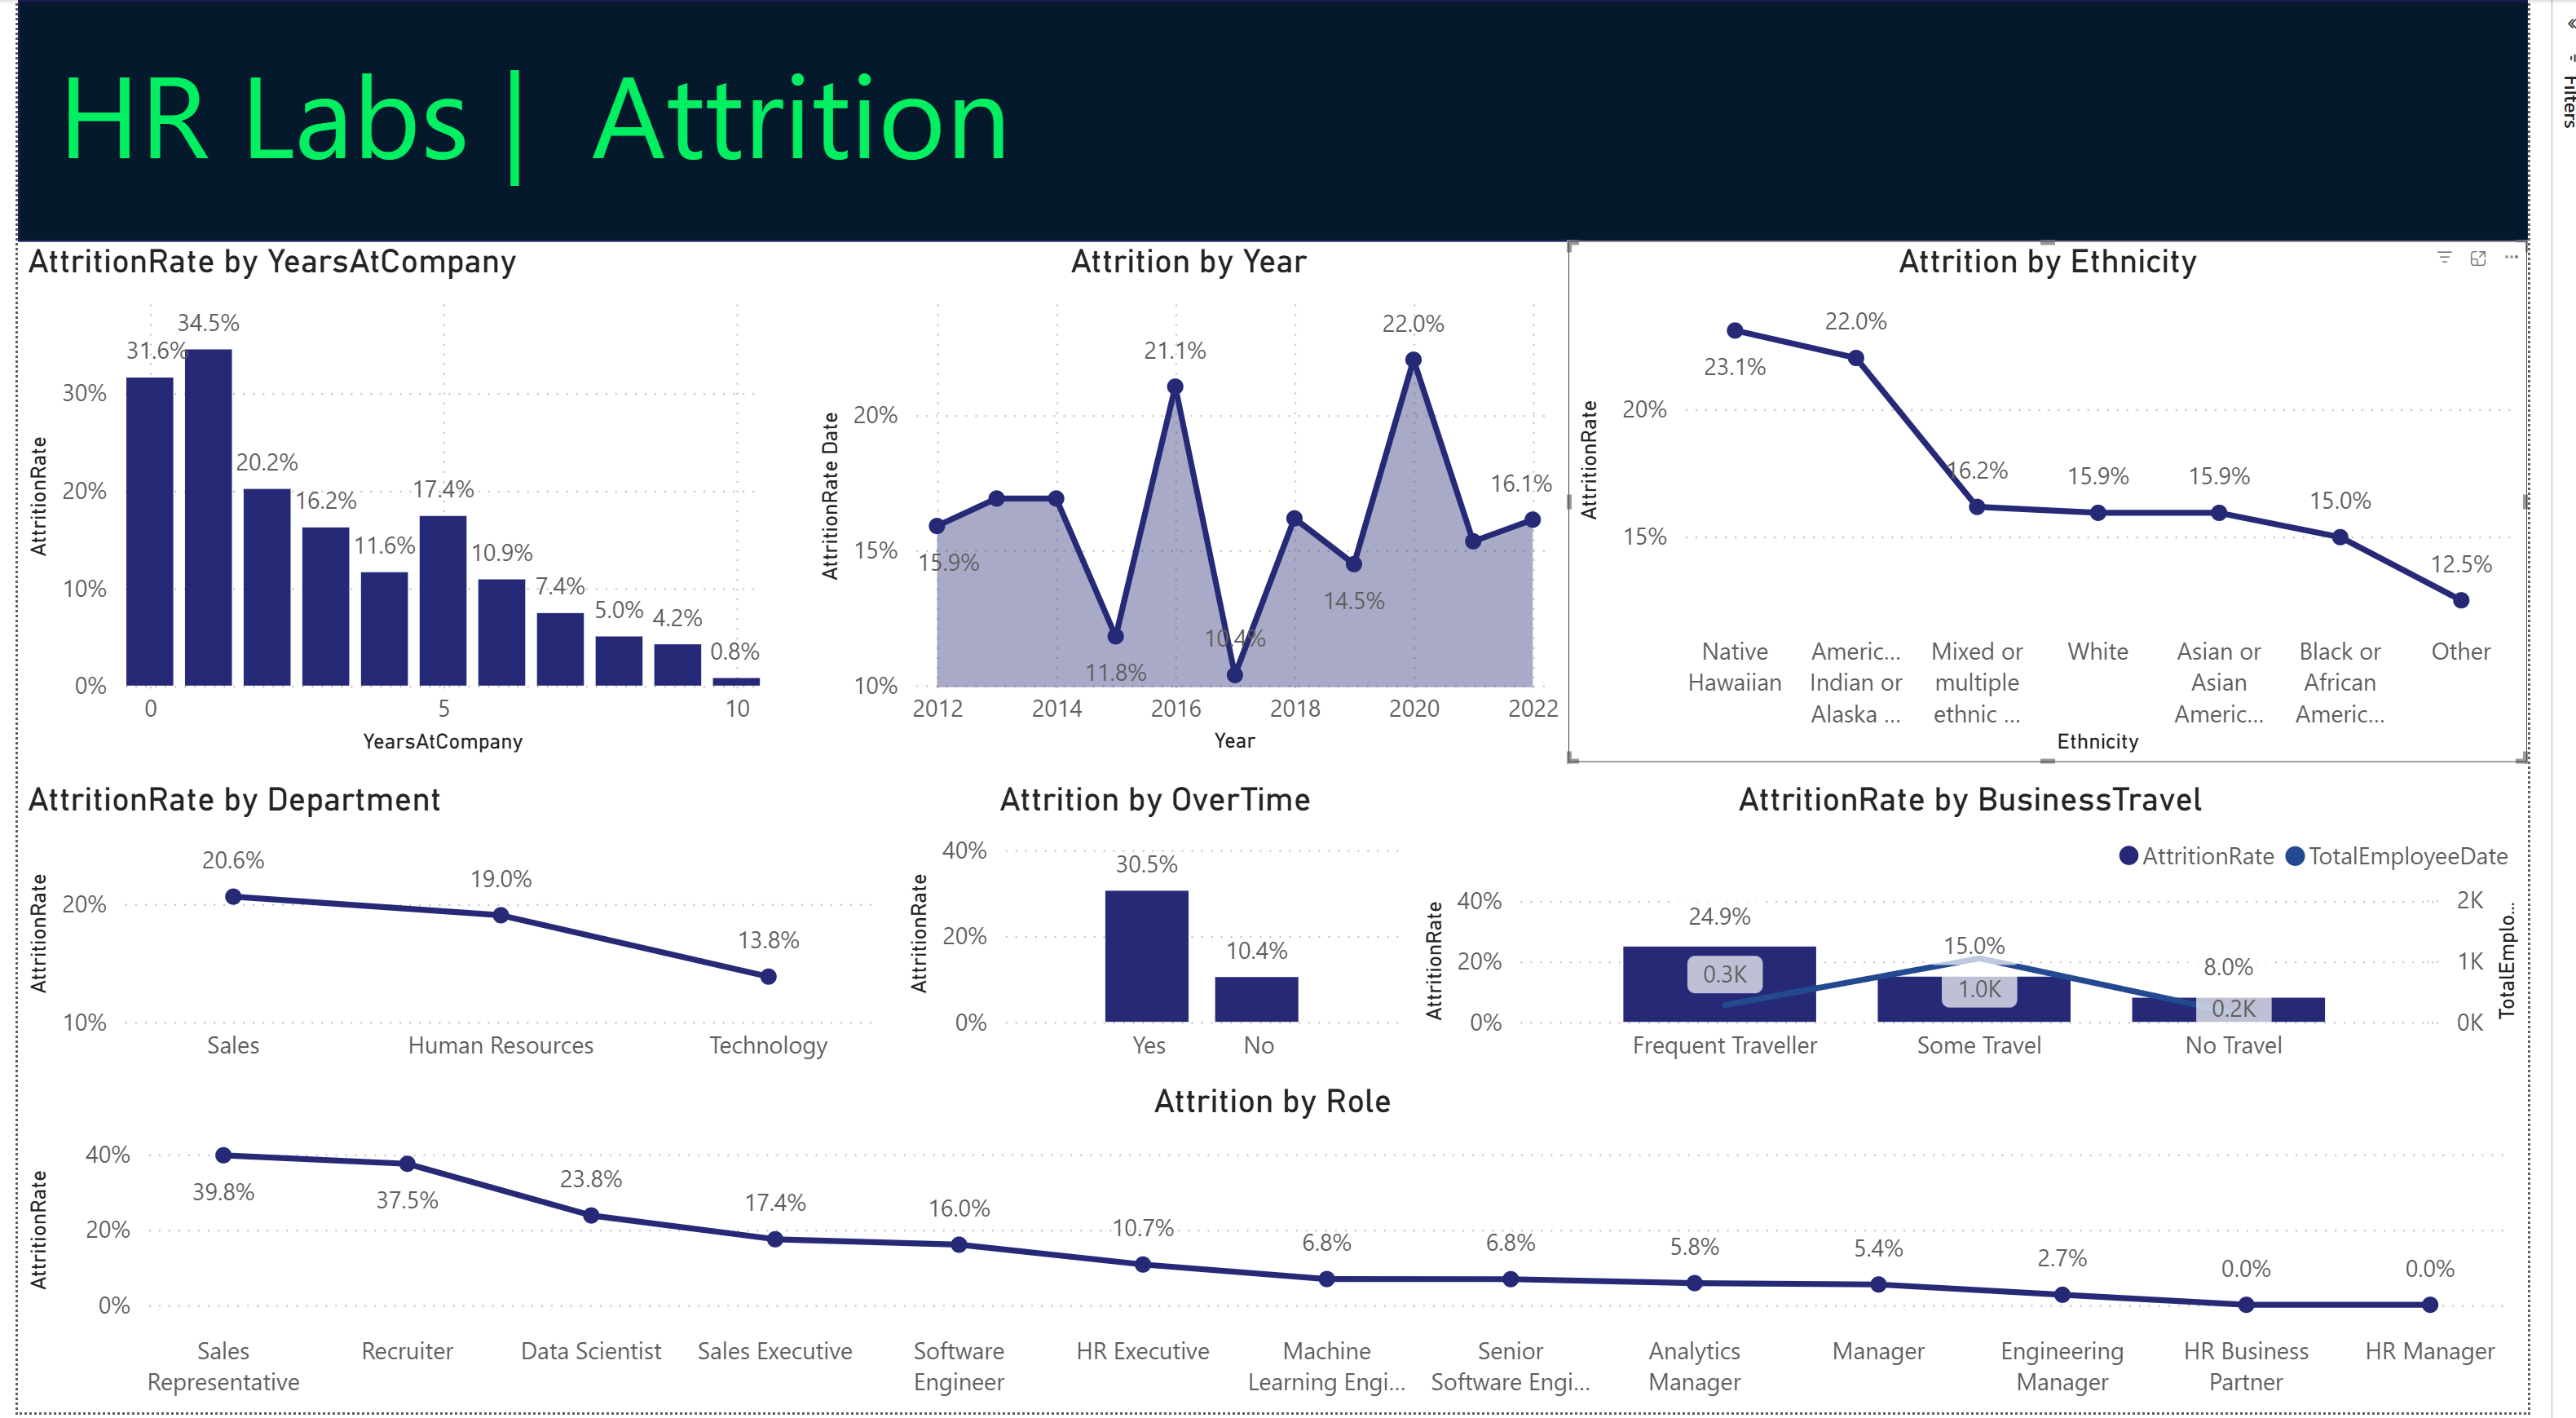

What the dashboard file says about the page in this screenshot:
{"tool":"powerbi","page":{"name":"Attrition Rate","canvas":[1280,720],"ordinal":3},"visuals":[{"type":"lineChart","fields":{"Y":["_Measures.AttritionRate"],"Category":["Employee -Dim.Department"]},"box":[0,397.3,442.6,153.7],"z":0},{"type":"lineChart","title":"Attrition by Year","fields":{"Y":["_Measures.AttritionRate Date"],"Category":["DimDate.Date.Variation.Date Hierarchy.Year"]},"box":[403.3,123.1,387.3,265.5],"z":1000},{"type":"lineChart","title":"Attrition by Role","fields":{"Y":["_Measures.AttritionRate"],"Category":["Employee -Dim.JobRole"]},"box":[0,551,1279.8,169],"z":2000},{"type":"lineStackedColumnComboChart","title":"AttritionRate by BusinessTravel","fields":{"Category":["Employee -Dim.BusinessTravel"],"Y":["_Measures.AttritionRate"],"Y2":["_Measures.TotalEmployeeDate"]},"box":[711.4,397.3,568.3,153.7],"z":3000},{"type":"clusteredColumnChart","title":"Attrition by OverTime","fields":{"Y":["_Measures.AttritionRate"],"Category":["Employee -Dim.OverTime"]},"box":[449.2,397.3,262.2,153.7],"z":4000},{"type":"clusteredColumnChart","fields":{"Category":["Employee -Dim.YearsAtCompany"],"Y":["_Measures.AttritionRate"]},"box":[0,123.1,383.3,265.5],"z":5000},{"type":"shape","box":[0,0,1280.4,123.1],"z":6000},{"type":"textbox","box":[15.6,12.1,956.1,92],"z":7000},{"type":"lineChart","title":"Attrition by Ethnicity","fields":{"Y":["_Measures.AttritionRate"],"Category":["Employee -Dim.Ethnicity"]},"box":[790.6,123.1,489.2,265.5],"z":8000}]}

Visuals, with their boxes in screenshot pixels (x1, y1, x2, y2), scaled from the page's 1280x720 canvas onto the 2576x1418 screenshot:
lineChart - _Measures.AttritionRate x Employee -Dim.Department: BBox(0, 783, 891, 1085)
"Attrition by Year" lineChart: BBox(812, 242, 1591, 766)
"Attrition by Role" lineChart: BBox(0, 1085, 2575, 1417)
"AttritionRate by BusinessTravel" lineStackedColumnComboChart: BBox(1431, 783, 2575, 1085)
"Attrition by OverTime" clusteredColumnChart: BBox(904, 783, 1431, 1085)
clusteredColumnChart - Employee -Dim.YearsAtCompany x _Measures.AttritionRate: BBox(0, 242, 771, 766)
shape: BBox(0, 0, 2575, 242)
textbox: BBox(32, 24, 1956, 205)
"Attrition by Ethnicity" lineChart: BBox(1591, 242, 2575, 766)
